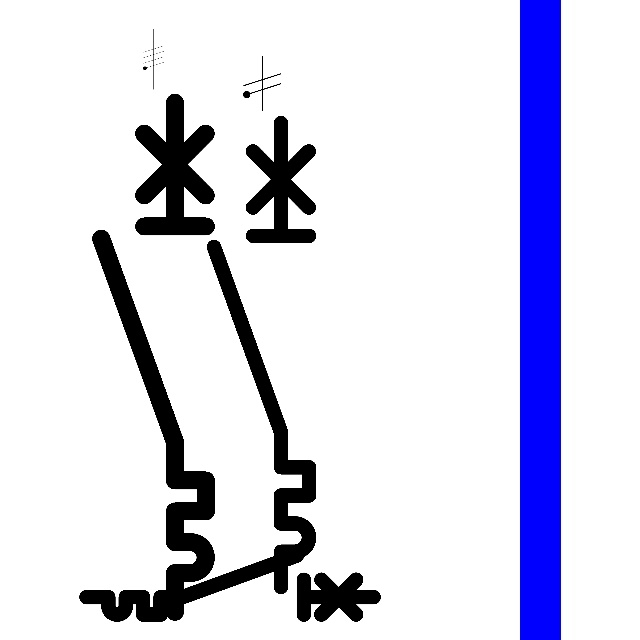interruptor_termomagnetico: (88, 89, 219, 625), (202, 111, 321, 599), (79, 548, 381, 622)
